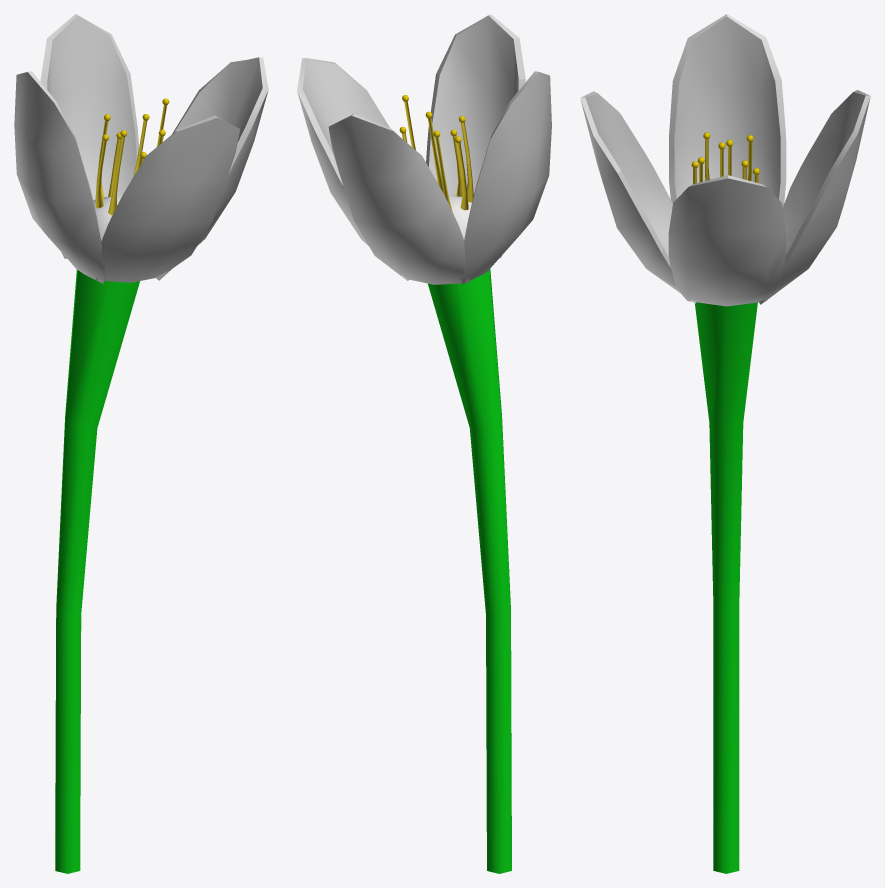
The model's file is Krokus-split.FBX.
The picture shows the model from 3 angles, left to right: view 1: azimuth 30°, elevation 25°; view 2: azimuth 150°, elevation 25°; view 3: azimuth 270°, elevation 25°; orthographic projection. The views are drawn at different scales.
Parts seen in each view (by area): view 1: Plane001, Cylinder001, Cylinder006; view 2: Plane001, Cylinder001, Cylinder006; view 3: Plane001, Cylinder001, Cylinder006.
Boxes of the visible parts, x1,y1,x2,y2 form: Plane001: (14, 14, 268, 283); Cylinder001: (55, 269, 139, 873); Cylinder006: (95, 105, 166, 215); Plane001: (297, 14, 551, 284); Cylinder001: (428, 269, 511, 873); Cylinder006: (402, 101, 473, 211); Plane001: (580, 14, 870, 306); Cylinder001: (695, 302, 757, 873); Cylinder006: (693, 139, 758, 183).
Size of the model in its own units: 98.27 by 320 by 101.
